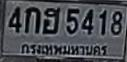1: (99, 9, 106, 34)
4: (8, 6, 20, 32), (81, 8, 92, 34)
5: (66, 8, 79, 33)
8: (110, 10, 122, 34)
A01: (24, 6, 40, 33)
A44: (42, 7, 60, 33)
BKK: (18, 42, 110, 58)
